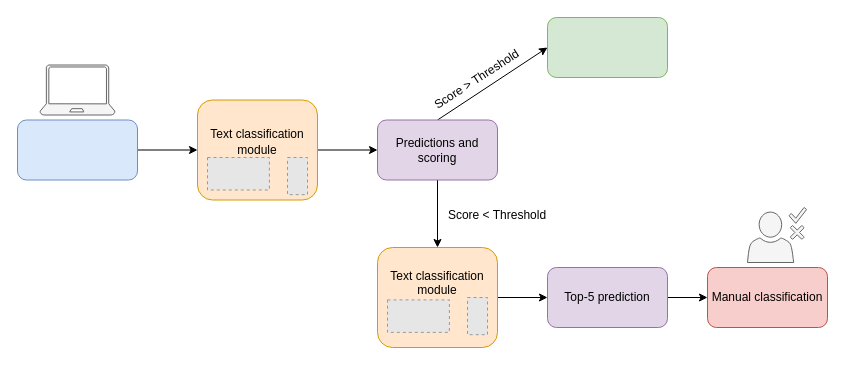
Some shapes in this 845 by 365 pixel diagram are drawn without their labels. Grey dashed boxes stand in for pictures. Here are the shapes that lost their labels. From the top down, the box of each, then its label:
(546, 16, 668, 78): Automatic classification
(16, 119, 138, 180): Sirene 4
